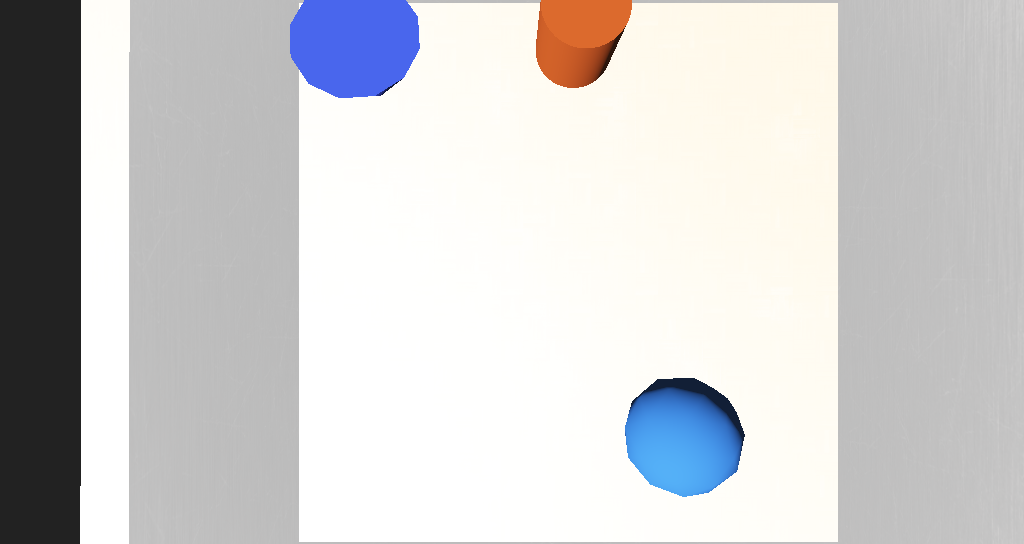cone: (488, 155, 536, 198)
cylinder: (350, 160, 431, 222)
sphere: (536, 305, 596, 353)
